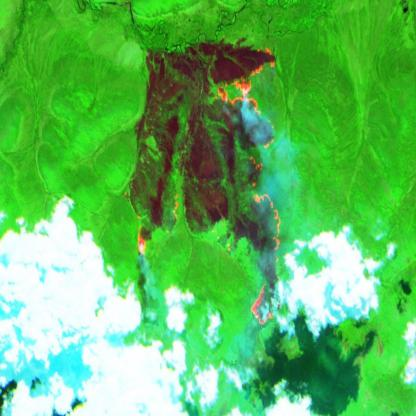fire: (218, 36, 277, 179), (246, 184, 286, 332), (136, 184, 183, 268)
